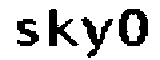0: (118, 6, 150, 52)
k: (45, 7, 78, 49)
s: (16, 18, 41, 49)
y: (80, 15, 113, 56)
